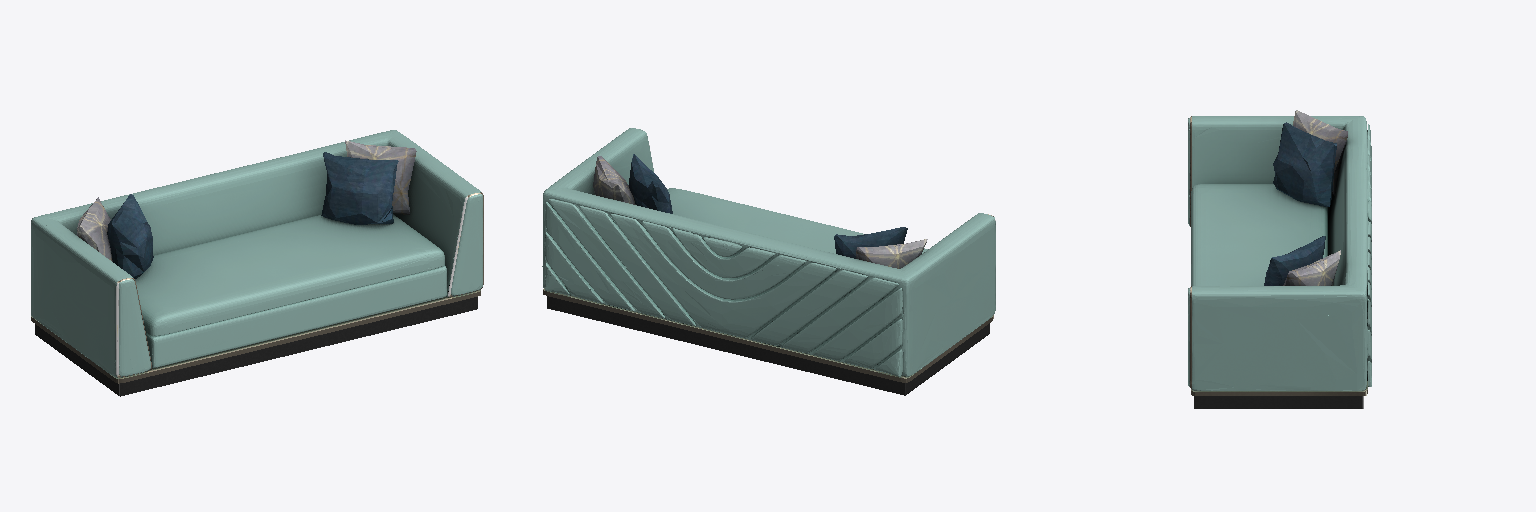
3 renders of one model, left to right at view 1: azimuth 30°, elevation 25°; view 2: azimuth 150°, elevation 25°; view 3: azimuth 270°, elevation 25°, orthographic.
Parts seen in each view (by area): view 1: solid_001, solid_004, solid_003, solid_002, solid_005; view 2: solid_001, solid_003, solid_004, solid_002, solid_005; view 3: solid_001, solid_004, solid_005, solid_003, solid_002.
Part boxes in pixels (left/top/right/bottom): solid_001: left=31, top=130, right=482, bottom=377; solid_004: left=107, top=152, right=398, bottom=278; solid_003: left=35, top=297, right=477, bottom=396; solid_002: left=31, top=192, right=483, bottom=383; solid_005: left=77, top=140, right=416, bottom=261; solid_001: left=542, top=128, right=995, bottom=376; solid_003: left=547, top=296, right=989, bottom=395; solid_004: left=629, top=154, right=907, bottom=258; solid_002: left=543, top=145, right=995, bottom=382; solid_005: left=593, top=156, right=927, bottom=268; solid_001: left=1188, top=116, right=1371, bottom=390; solid_004: left=1264, top=122, right=1336, bottom=285; solid_005: left=1283, top=110, right=1347, bottom=285; solid_003: left=1194, top=396, right=1363, bottom=408; solid_002: left=1190, top=116, right=1367, bottom=395.
Bounding box in the file's own units: 2.52 × 0.8597 × 1.09.
Materials: 1 (1 with a texture image).